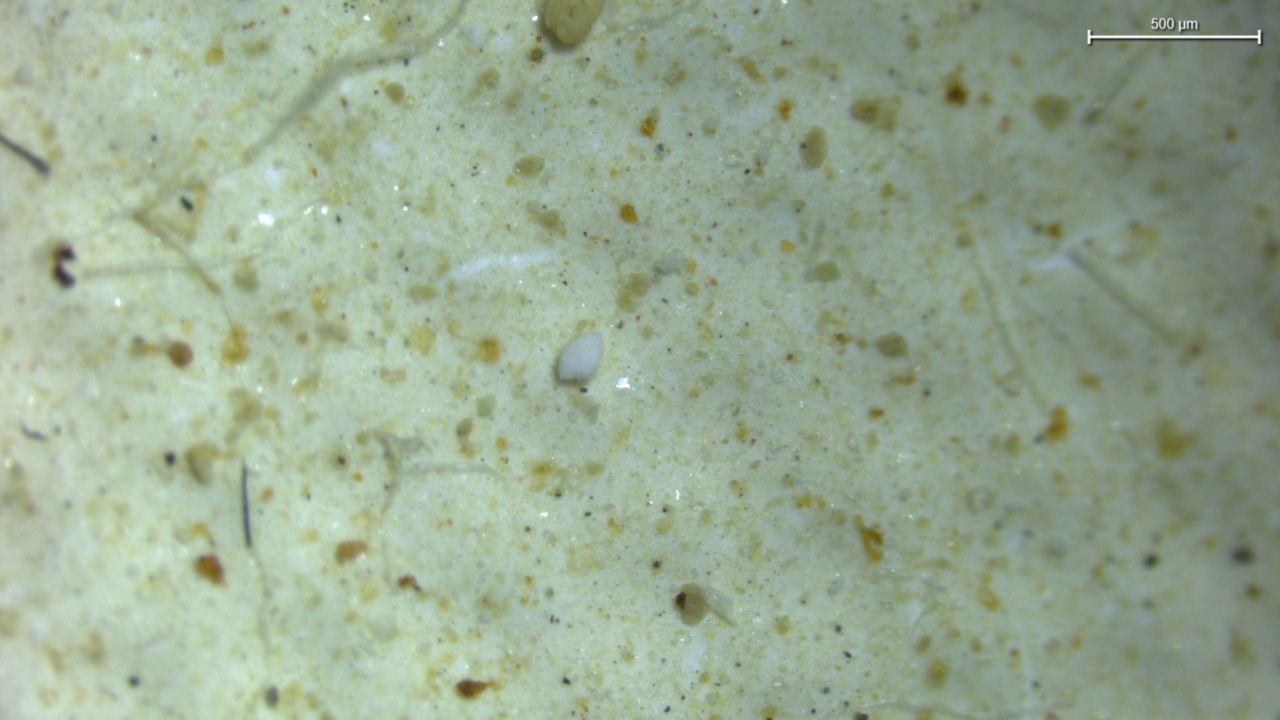microplastic_fragment: (557, 332, 602, 382)
